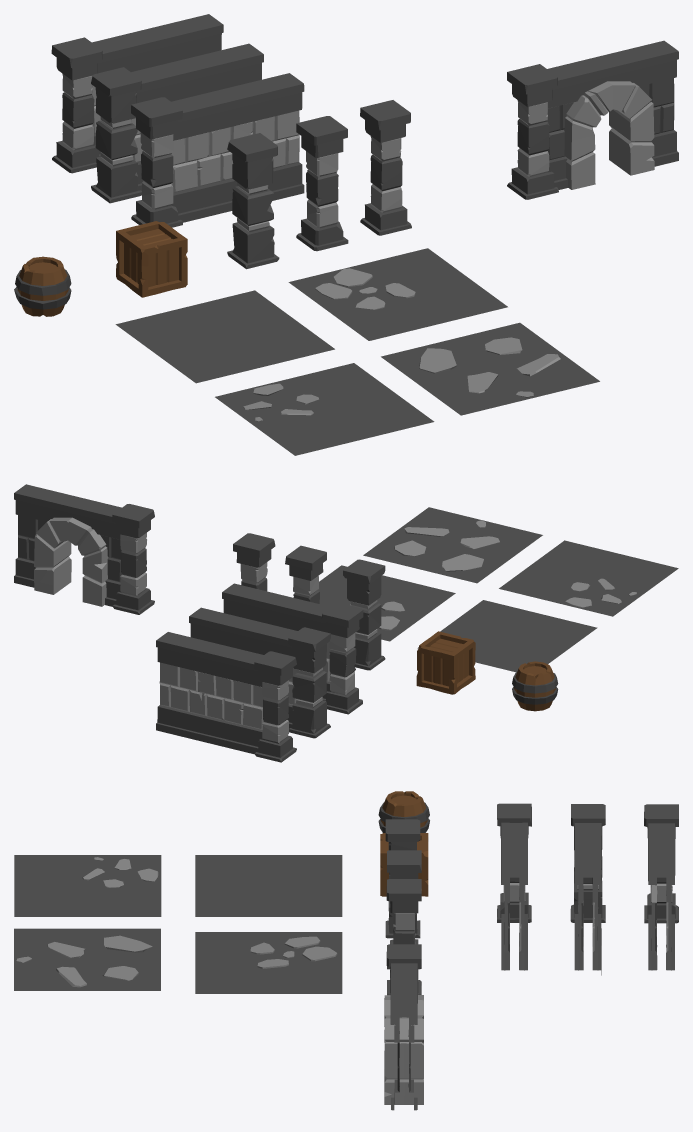
File: MapTiles.fbx
3 views of the same model, one above another, from view 1: azimuth 30°, elevation 25°; view 2: azimuth 150°, elevation 25°; view 3: azimuth 270°, elevation 25° (orthographic). The views are drawn at different scales.
Parts seen in each view (by area): view 1: Gate, Wall - 1, Ground - 1, Ground - 3, Ground - 2, Ground base, Wall - 2, Wall - 3, Pillar - 1, Pillar - 2, Pillar - 3, Crate (+1 smaller); view 2: Wall - 3, Gate, Ground - 2, Ground - 3, Wall - 2, Wall - 1, Ground base, Ground - 1, Pillar - 1, Crate, Barrel, Pillar - 3 (+1 smaller); view 3: Ground - 2, Ground - 1, Ground - 3, Ground base, Gate, Wall - 2, Wall - 3, Wall - 1, Pillar - 3, Pillar - 1, Barrel, Pillar - 2 (+1 smaller).
Part boxes in pixels (x1=…): Gate: x1=507, y1=40, x2=678, y2=199; Wall - 1: x1=131, y1=73, x2=304, y2=227; Ground - 1: x1=288, y1=248, x2=507, y2=340; Ground - 3: x1=215, y1=363, x2=434, y2=455; Ground - 2: x1=381, y1=322, x2=599, y2=415; Ground base: x1=115, y1=290, x2=334, y2=383; Wall - 2: x1=91, y1=43, x2=263, y2=203; Wall - 3: x1=51, y1=14, x2=223, y2=173; Pillar - 1: x1=227, y1=133, x2=279, y2=269; Pillar - 2: x1=296, y1=116, x2=348, y2=251; Pillar - 3: x1=360, y1=100, x2=411, y2=235; Crate: x1=116, y1=221, x2=187, y2=297; Wall - 3: x1=156, y1=632, x2=296, y2=762; Gate: x1=14, y1=484, x2=154, y2=614; Ground - 2: x1=363, y1=507, x2=542, y2=583; Ground - 3: x1=499, y1=540, x2=678, y2=616; Wall - 2: x1=189, y1=607, x2=330, y2=738; Wall - 1: x1=222, y1=583, x2=363, y2=714; Ground base: x1=417, y1=600, x2=597, y2=672; Ground - 1: x1=318, y1=565, x2=455, y2=641; Pillar - 1: x1=343, y1=559, x2=385, y2=670; Crate: x1=416, y1=631, x2=475, y2=694; Barrel: x1=512, y1=661, x2=558, y2=711; Pillar - 3: x1=233, y1=533, x2=275, y2=591; Ground - 2: x1=14, y1=928, x2=160, y2=990; Ground - 1: x1=195, y1=932, x2=342, y2=993; Ground - 3: x1=14, y1=855, x2=161, y2=916; Ground base: x1=195, y1=855, x2=342, y2=916; Gate: x1=384, y1=944, x2=423, y2=1110; Wall - 2: x1=570, y1=804, x2=605, y2=975; Wall - 3: x1=644, y1=804, x2=678, y2=970; Wall - 1: x1=497, y1=803, x2=531, y2=970; Pillar - 3: x1=386, y1=879, x2=421, y2=994; Pillar - 1: x1=385, y1=819, x2=420, y2=938; Barrel: x1=378, y1=791, x2=429, y2=832; Pillar - 2: x1=387, y1=850, x2=421, y2=969.
Bounding box in the file's own units: 18.71 × 3.18 × 18.09.
